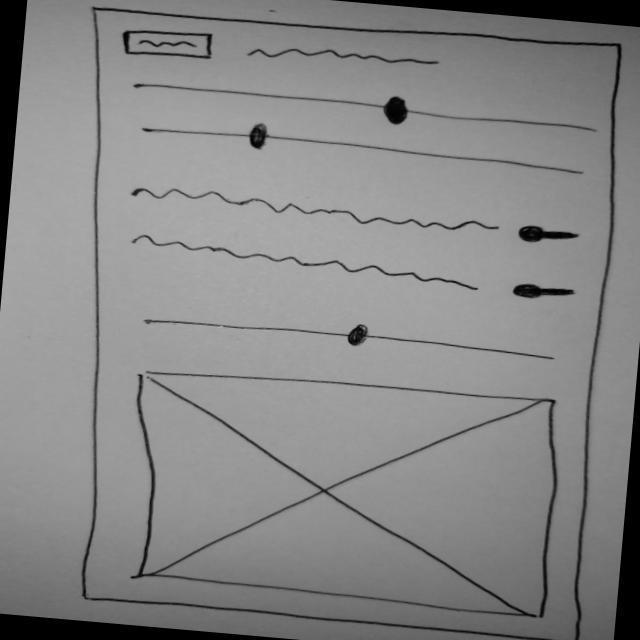button: (120, 25, 219, 64)
image: (115, 362, 571, 626)
input: (34, 1, 638, 640)
slider: (124, 71, 604, 144), (139, 112, 596, 181), (140, 306, 560, 368)
text: (129, 231, 494, 299), (132, 182, 506, 241), (245, 41, 446, 76)
toggle: (508, 279, 582, 308), (514, 221, 586, 249)
